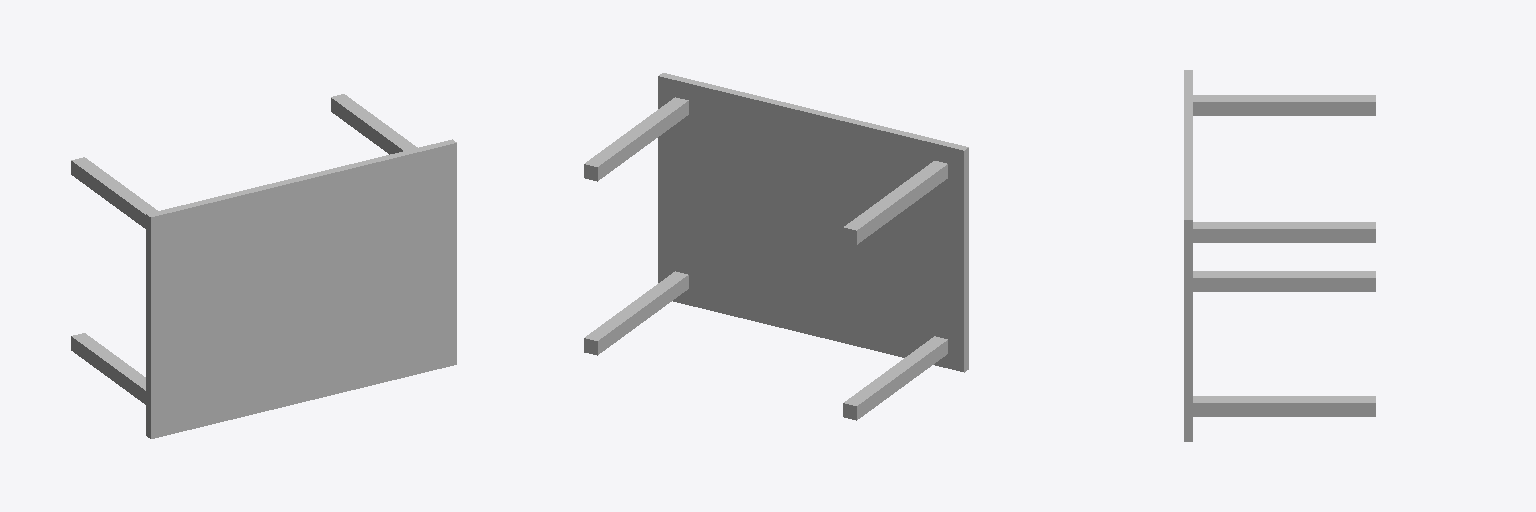
The model's file is table.obj.
3 renders of one model, left to right at view 1: azimuth 30°, elevation 25°; view 2: azimuth 150°, elevation 25°; view 3: azimuth 270°, elevation 25°, orthographic.
Visible parts, largest first — view 1: Plane.011; view 2: Plane.011; view 3: Plane.011.
Boxes of the visible parts, box(x1,y1,x2,y2) form: Plane.011: box(71, 94, 456, 438); Plane.011: box(584, 73, 968, 420); Plane.011: box(1184, 70, 1375, 441).
Bounding box in the file's own units: 38.1 × 26.37 × 20.68.